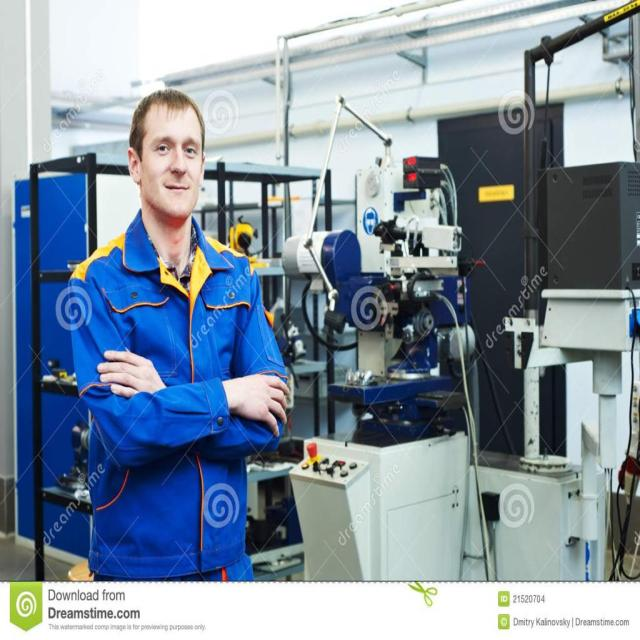Face: (139, 96, 216, 220)
